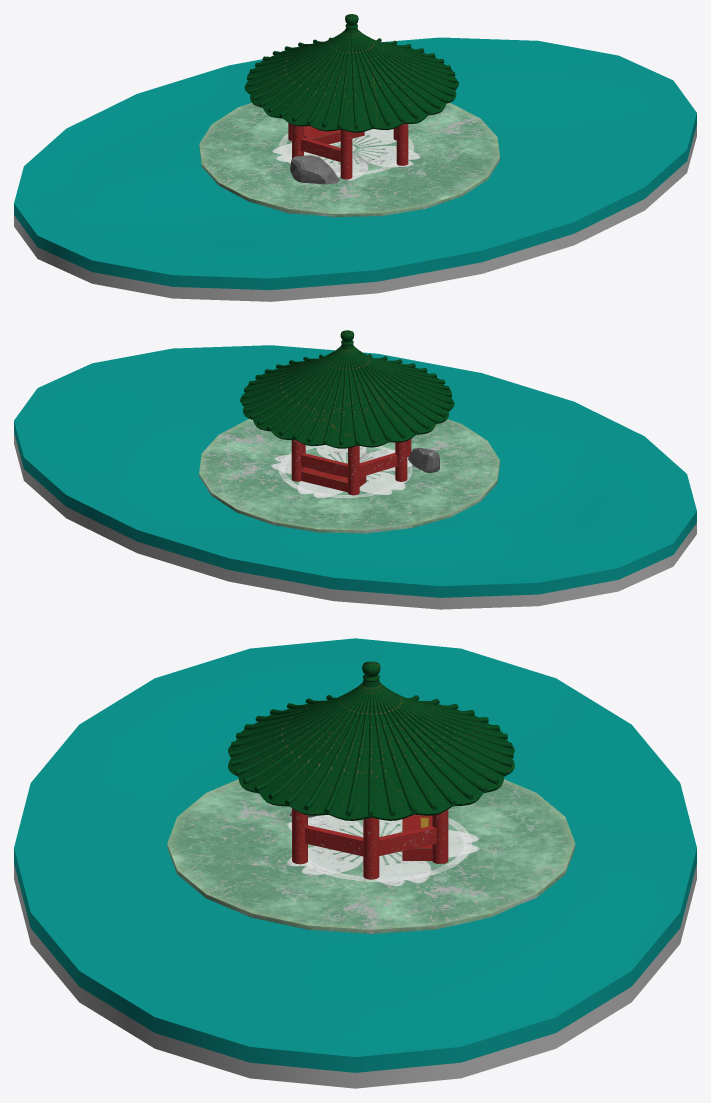
The picture shows the model from 3 angles, top to bottom: view 1: azimuth 30°, elevation 25°; view 2: azimuth 150°, elevation 25°; view 3: azimuth 270°, elevation 25°; orthographic projection. The views are drawn at different scales.
Parts seen in each view (by area): view 1: Landscape, Platform_Final, Chinese_PavilionTubes_LP, Chinese_Pavilion_RoofLP, LP_ChinesePavPillars, Rock_LP, LP_ChinesePavWalls, Bench_final1; view 2: Landscape, Platform_Final, Chinese_PavilionTubes_LP, Chinese_Pavilion_RoofLP, LP_ChinesePavPillars, LP_ChinesePavWalls, Bench_final1, Rock_LP; view 3: Landscape, Platform_Final, Chinese_PavilionTubes_LP, Chinese_Pavilion_RoofLP, LP_ChinesePavPillars, LP_ChinesePavWalls, Bench_final1.
Part boxes in pixels (x1,y1,x2,y2): Landscape: (14, 37, 696, 301); Platform_Final: (199, 102, 499, 217); Chinese_PavilionTubes_LP: (246, 30, 456, 129); Chinese_Pavilion_RoofLP: (244, 42, 458, 132); LP_ChinesePavPillars: (288, 123, 408, 179); Rock_LP: (290, 155, 339, 184); LP_ChinesePavWalls: (300, 137, 340, 161); Bench_final1: (304, 126, 364, 144); Landscape: (14, 345, 696, 609); Platform_Final: (199, 419, 499, 533); Chinese_PavilionTubes_LP: (242, 346, 452, 445); Chinese_Pavilion_RoofLP: (240, 360, 454, 448); LP_ChinesePavPillars: (291, 439, 411, 495); LP_ChinesePavWalls: (301, 441, 408, 477); Bench_final1: (301, 467, 366, 492); Rock_LP: (408, 448, 439, 472); Landscape: (14, 638, 696, 1088); Platform_Final: (167, 779, 575, 933); Chinese_PavilionTubes_LP: (229, 682, 513, 817); Chinese_Pavilion_RoofLP: (228, 704, 514, 820); LP_ChinesePavPillars: (292, 808, 448, 879); LP_ChinesePavWalls: (305, 825, 436, 856); Bench_final1: (402, 814, 432, 860).
Bounding box in the file's own units: 23.35 × 5.67 × 16.09.
Materials: 8 (6 with a texture image).
